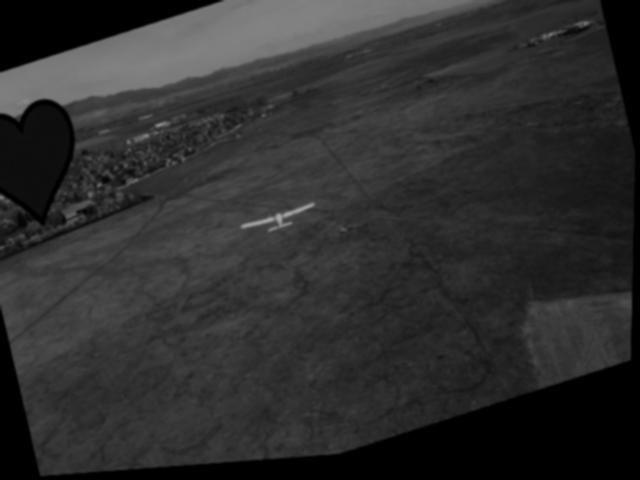hedef: (227, 176, 337, 270)
